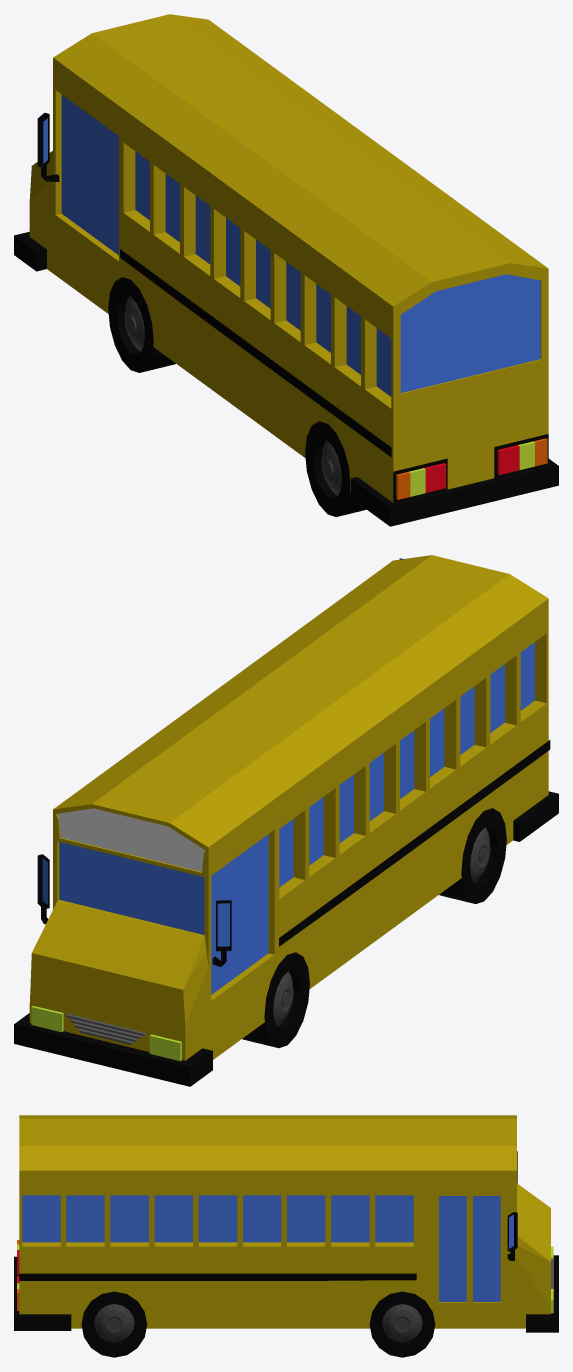
The model's file is schoolbusYellow.glb.
The picture shows the model from 3 angles, top to bottom: view 1: azimuth 30°, elevation 25°; view 2: azimuth 150°, elevation 25°; view 3: azimuth 270°, elevation 25°; orthographic projection. The views are drawn at different scales.
Visible parts, largest first — view 1: SchoolBus2; view 2: SchoolBus2; view 3: SchoolBus2.
Part boxes in pixels (x1,y1,x2,y2): SchoolBus2: (14, 14, 558, 526); SchoolBus2: (14, 555, 558, 1086); SchoolBus2: (14, 1115, 558, 1357).
Size of the model in its own units: 12 by 16 by 40.
